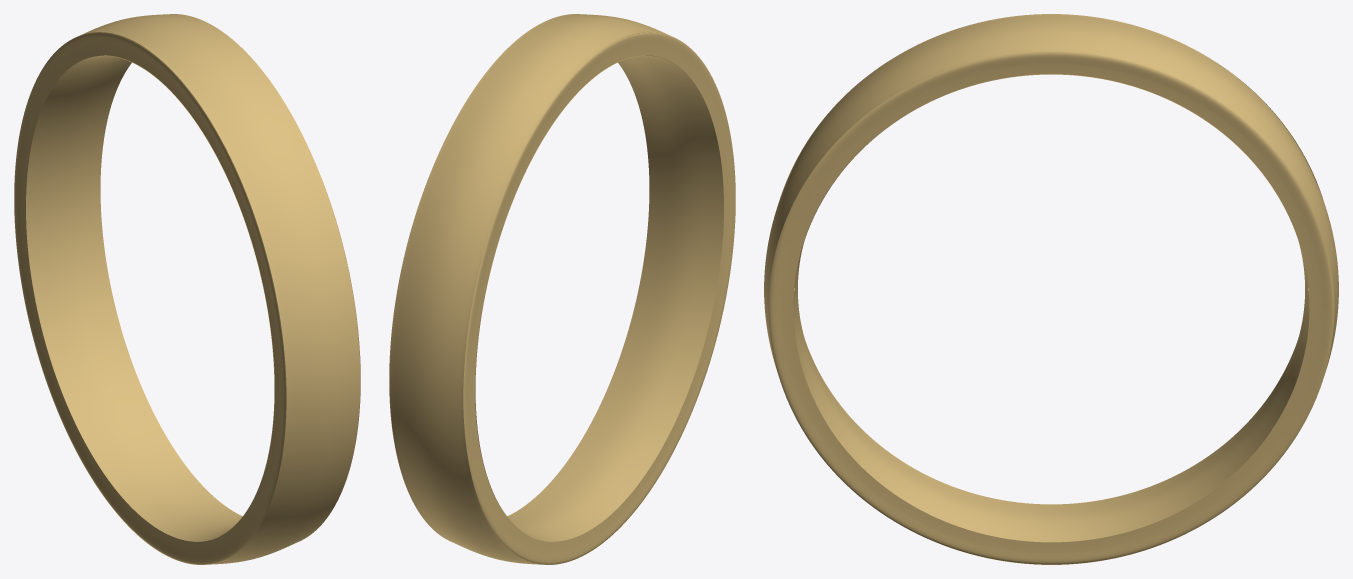
The picture shows the model from 3 angles, left to right: view 1: azimuth 30°, elevation 25°; view 2: azimuth 150°, elevation 25°; view 3: azimuth 270°, elevation 25°; orthographic projection. The views are drawn at different scales.
Visible parts, largest first — view 1: P12-Outer, P12-Inner, P12-Sides; view 2: P12-Outer, P12-Inner, P12-Sides; view 3: P12-Sides, P12-Outer, P12-Inner.
Boxes of the visible parts, box(x1,y1,x2,y2) form: P12-Outer: box(48, 14, 360, 564); P12-Inner: box(26, 48, 274, 541); P12-Sides: box(14, 32, 360, 564); P12-Outer: box(389, 14, 701, 564); P12-Inner: box(475, 48, 723, 541); P12-Sides: box(389, 32, 735, 564); P12-Sides: box(768, 52, 1334, 564); P12-Outer: box(764, 14, 1338, 564); P12-Inner: box(793, 51, 1309, 542).
Bounding box in the file's own units: 0.3675 × 2.34 × 2.33.
